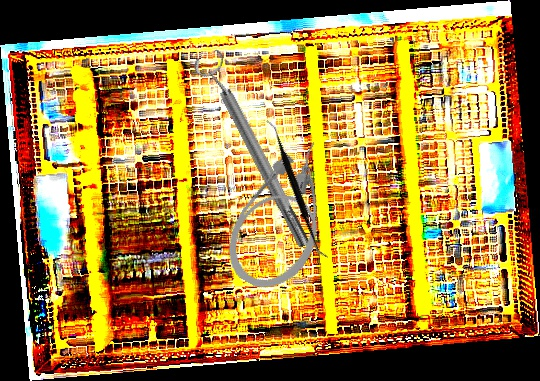Cannula: (212, 128, 360, 303)
Fixation Ring: (190, 46, 319, 255)
Spatula Surgical: (222, 118, 373, 259)
